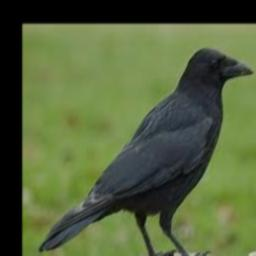Crow: (39, 47, 252, 256)
